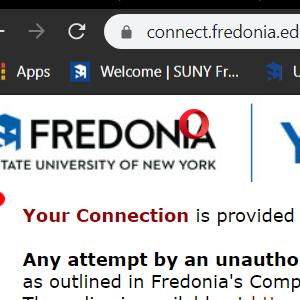opera: (179, 108, 209, 138)
